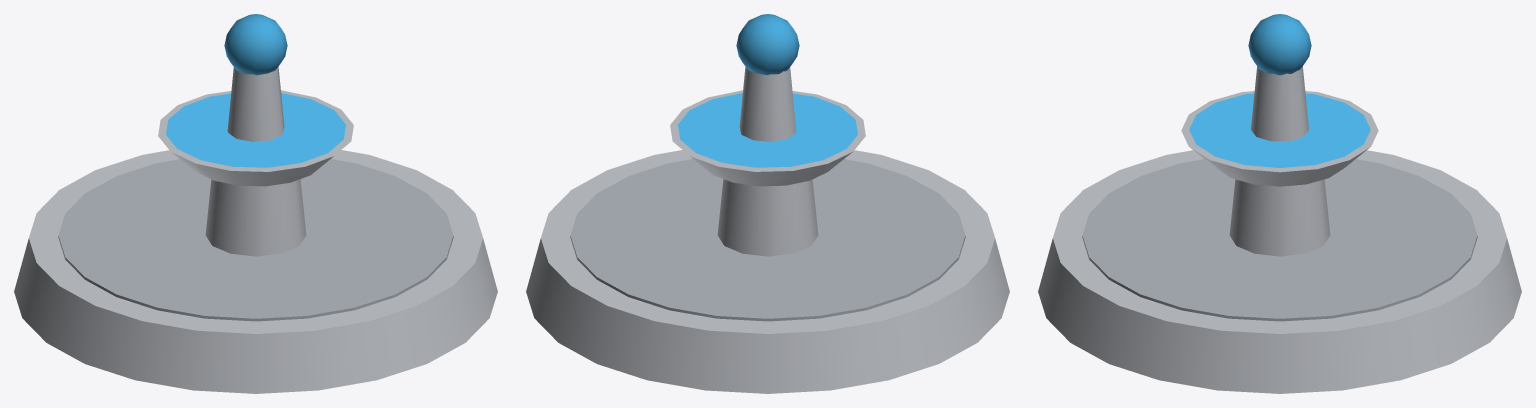
The model's file is fountain.glb.
3 renders of one model, left to right at view 1: azimuth 30°, elevation 25°; view 2: azimuth 150°, elevation 25°; view 3: azimuth 270°, elevation 25°, orthographic.
Visible parts, largest first — view 1: Fountain; view 2: Fountain; view 3: Fountain.
Boxes of the visible parts, box(x1,y1,x2,y2) form: Fountain: box(14, 14, 497, 393); Fountain: box(526, 14, 1009, 393); Fountain: box(1038, 14, 1521, 393).
Bounding box in the file's own units: 4.9 × 3.07 × 4.9.
